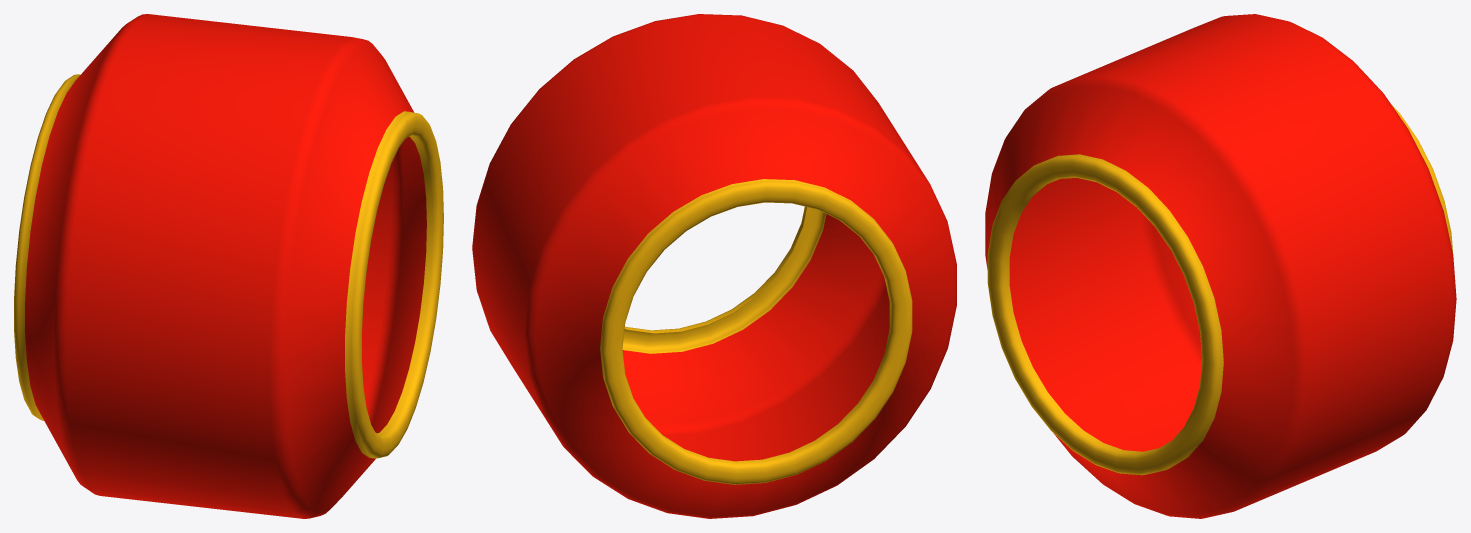
File: 005-Chopsticks_Plastic_02.FBX
The picture shows the model from 3 angles, left to right: view 1: azimuth 30°, elevation 25°; view 2: azimuth 150°, elevation 25°; view 3: azimuth 270°, elevation 25°; orthographic projection. The views are drawn at different scales.
Parts seen in each view (by area): view 1: 005-Chopsticks_Plastic_02; view 2: 005-Chopsticks_Plastic_02; view 3: 005-Chopsticks_Plastic_02.
Boxes of the visible parts, box(x1,y1,x2,y2) form: 005-Chopsticks_Plastic_02: box(14, 14, 443, 518); 005-Chopsticks_Plastic_02: box(472, 14, 956, 518); 005-Chopsticks_Plastic_02: box(985, 14, 1456, 518).
Size of the model in its own units: 43.27 by 42.79 by 43.27.
